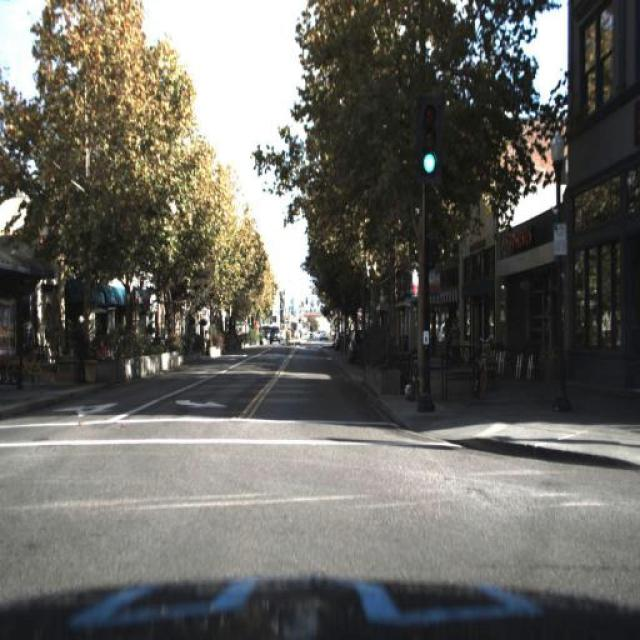semaforo: (414, 97, 442, 184)
